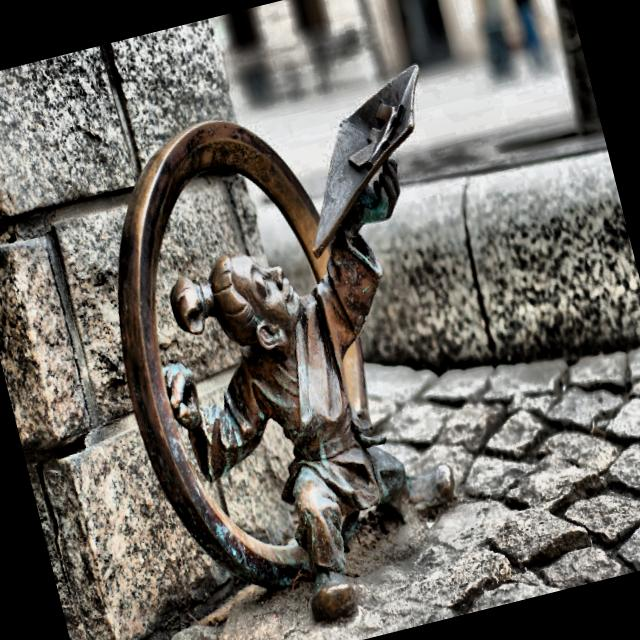TianTian: (118, 65, 453, 621)
